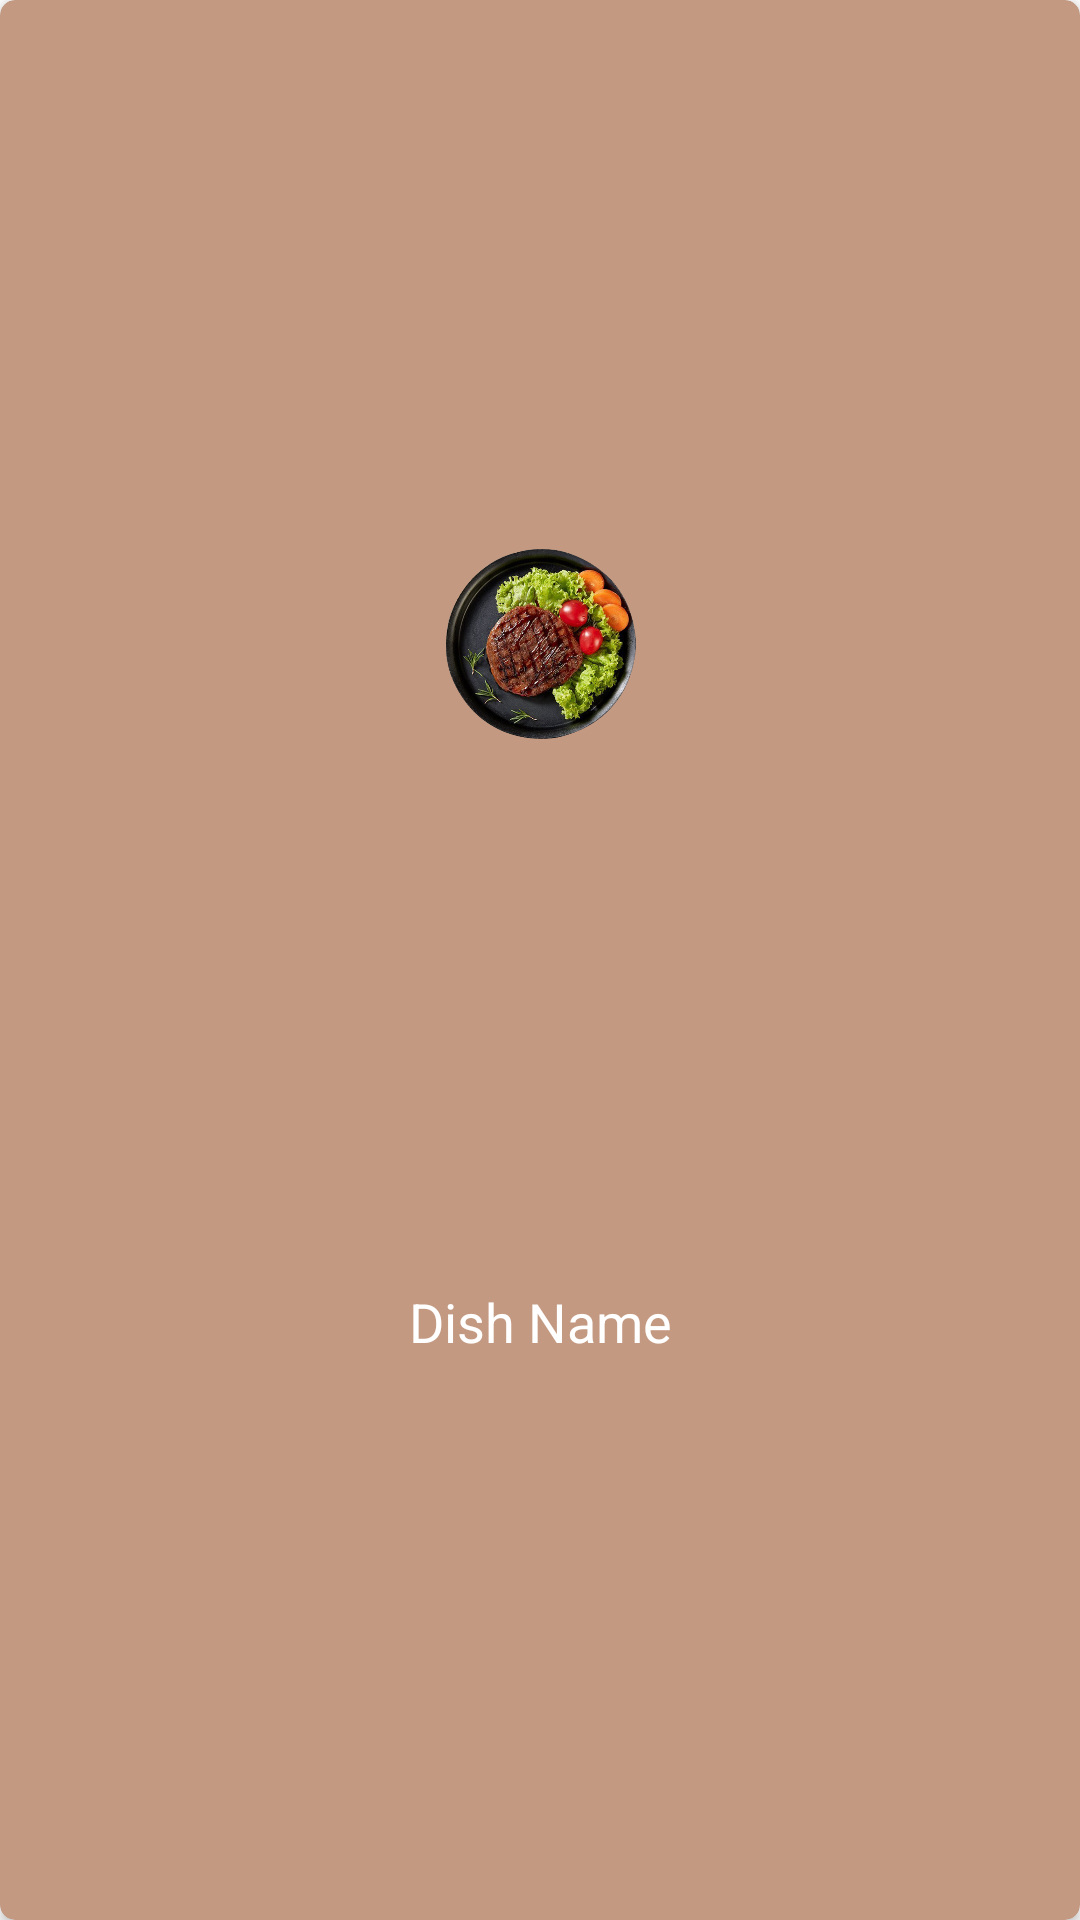

Screen size 1080px×1920px. Icon name, then its box in pixels as {"left": x1, "top": y1, "right": x2, "bottom": y2}:
beef: {"left": 446, "top": 549, "right": 636, "bottom": 739}
